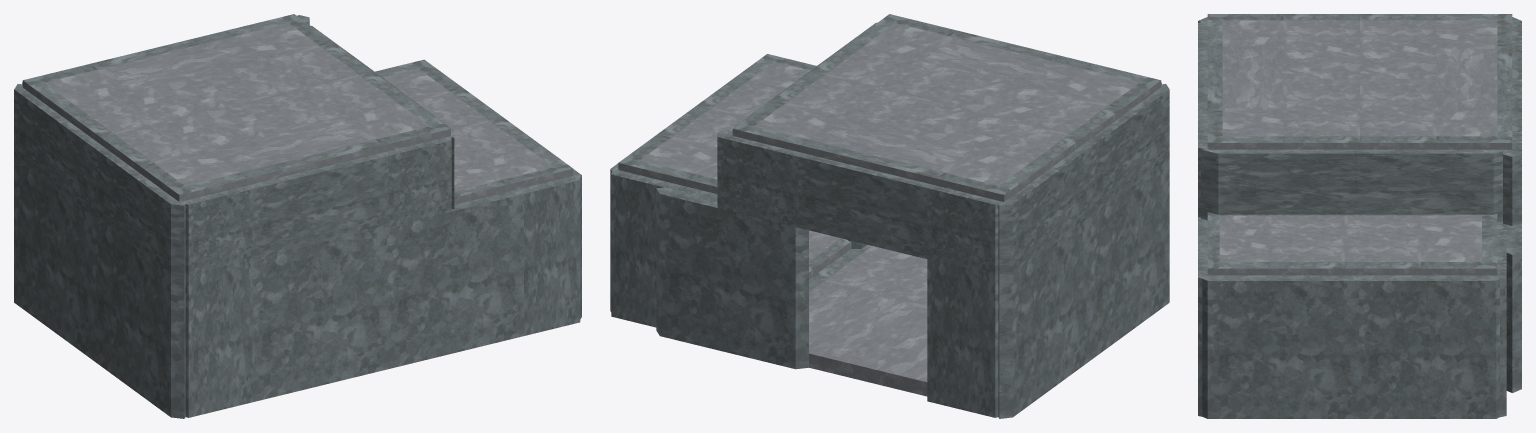
Rendered from Elevator.fbx.
The picture shows the model from 3 angles, left to right: view 1: azimuth 30°, elevation 25°; view 2: azimuth 150°, elevation 25°; view 3: azimuth 270°, elevation 25°; orthographic projection. The views are drawn at different scales.
Visible parts, largest first — view 1: mergedBlocks; view 2: mergedBlocks; view 3: mergedBlocks.
Part boxes in pixels (x1,y1,x2,y2): mergedBlocks: (14,14,581,418); mergedBlocks: (610,14,1169,418); mergedBlocks: (1198,14,1521,418).
Bounding box in the file's own units: 30.25 × 15.5 × 21.25.
Materials: 3 (3 with a texture image).
